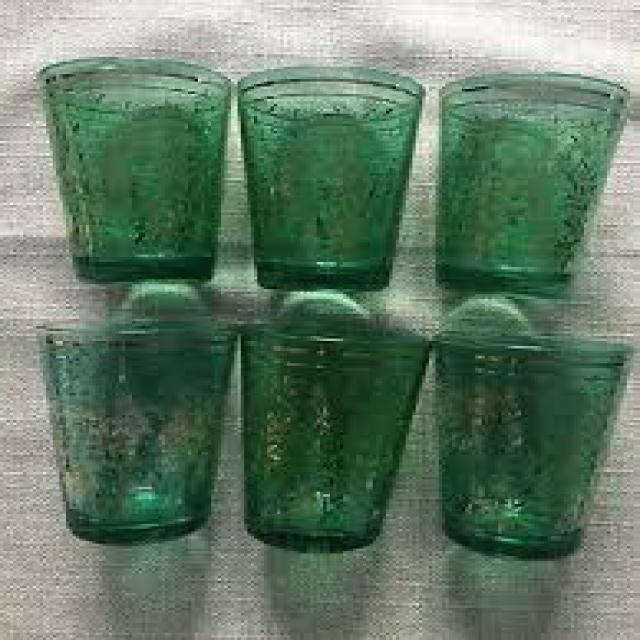glass: (429, 326, 630, 559), (426, 69, 627, 292), (33, 316, 234, 539), (33, 57, 231, 282), (231, 64, 422, 292), (238, 321, 426, 549)
